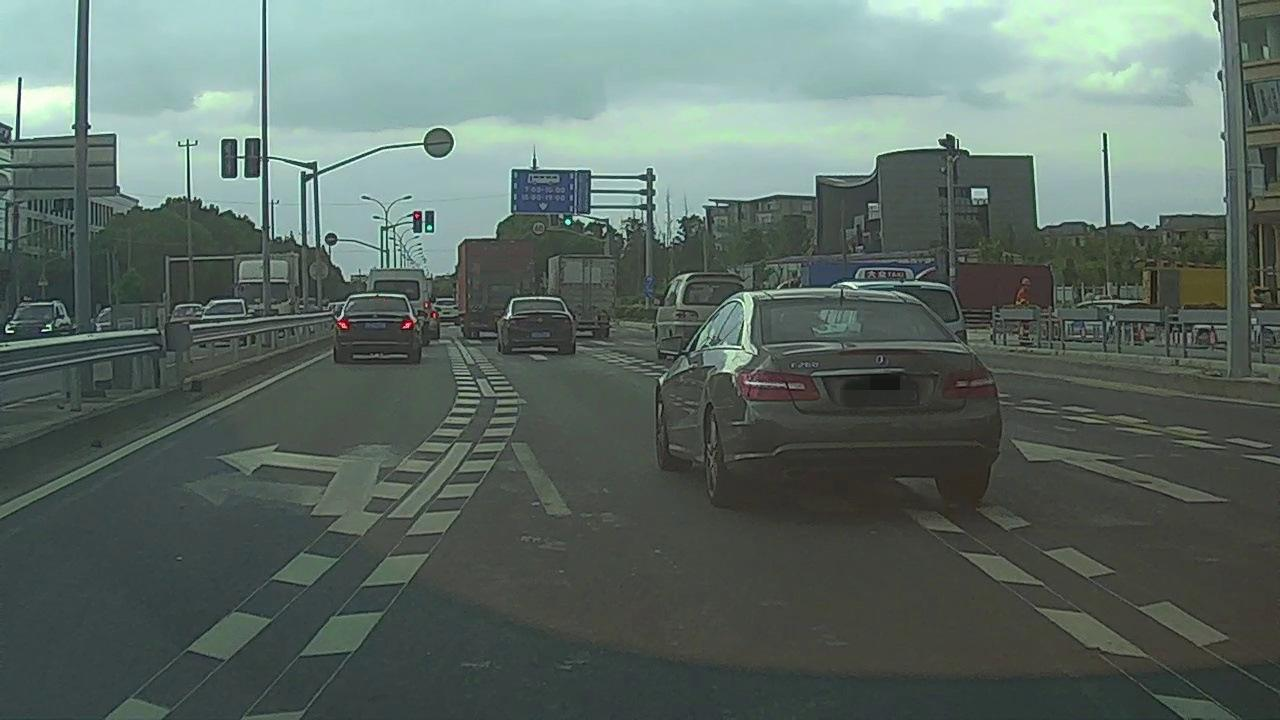traffic_light: (413, 212, 422, 233), (426, 211, 434, 232), (563, 212, 572, 227), (549, 214, 558, 227)
